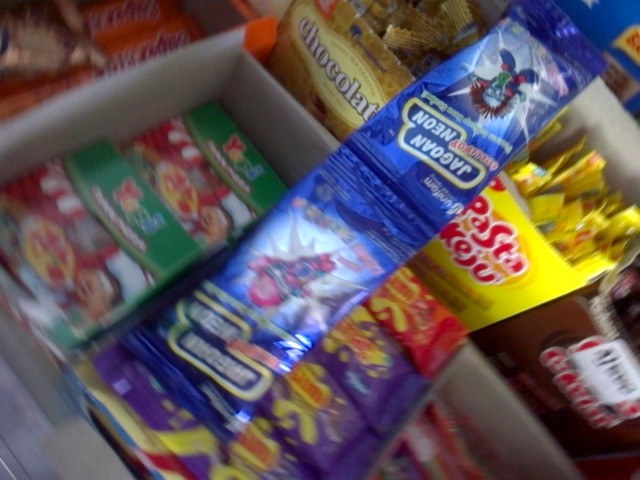jagoan neon: (126, 150, 427, 445), (340, 2, 604, 236)
